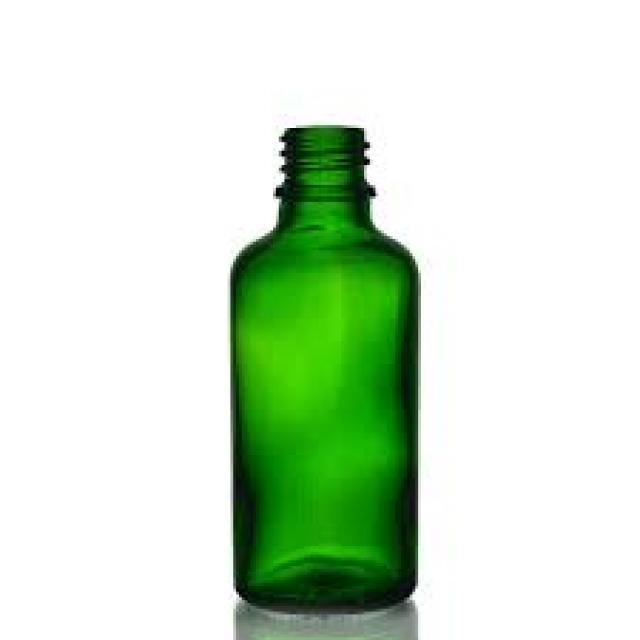Glass: (222, 118, 432, 620)
